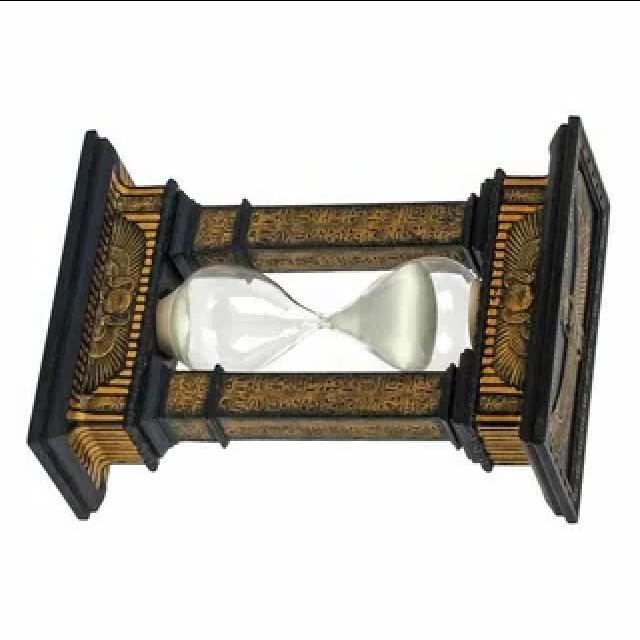clock: (137, 207, 509, 430)
